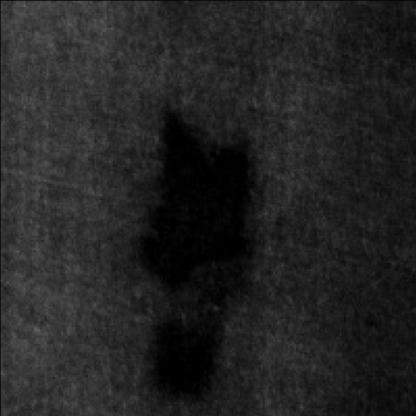patches: (141, 104, 262, 300), (148, 302, 230, 399)
